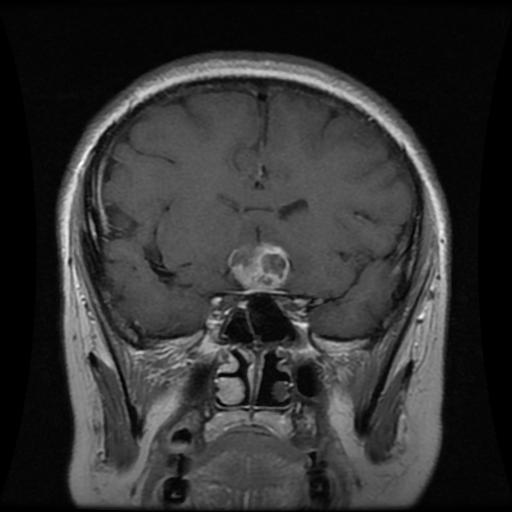Pituirity_tumour: (227, 243, 289, 288)
